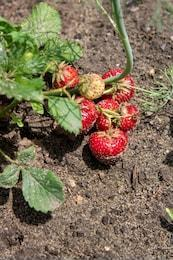Fresa: (85, 127, 131, 169), (94, 97, 141, 133), (99, 65, 138, 102), (47, 59, 81, 94)
